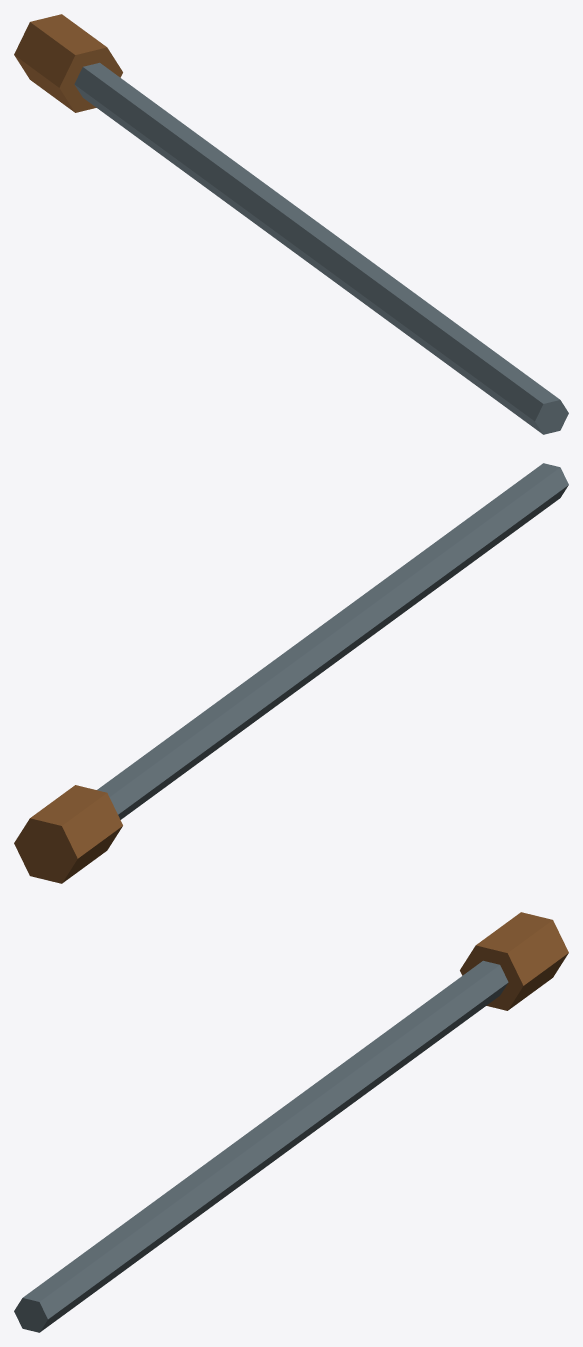
Rendered from Ramrod.glb.
The picture shows the model from 3 angles, top to bottom: view 1: azimuth 30°, elevation 25°; view 2: azimuth 150°, elevation 25°; view 3: azimuth 330°, elevation 25°; orthographic projection.
Visible parts, largest first — view 1: Sculpture; view 2: Sculpture; view 3: Sculpture.
Boxes of the visible parts, box(x1,y1,x2,y2) form: Sculpture: box(14, 14, 568, 434); Sculpture: box(14, 463, 568, 883); Sculpture: box(14, 912, 568, 1332).
Bounding box in the file's own units: 0.03 × 0.026 × 0.412.
